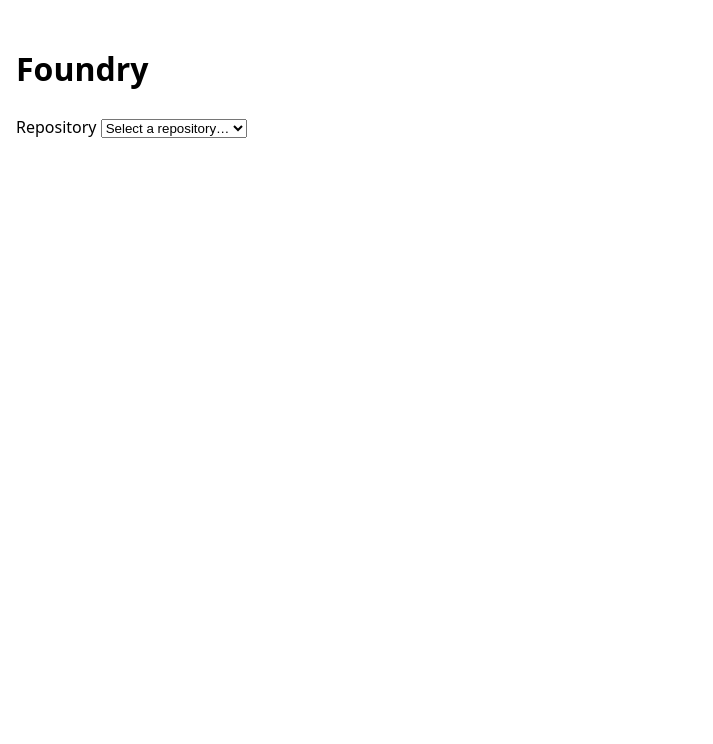
Scenario: Ask › never shows an answer that finishes after the repository changed
Select "acme/demo (3 files)" in the dropdown labelled "Repository" at (174, 128), box [101, 119, 247, 138]
(page scrolled)
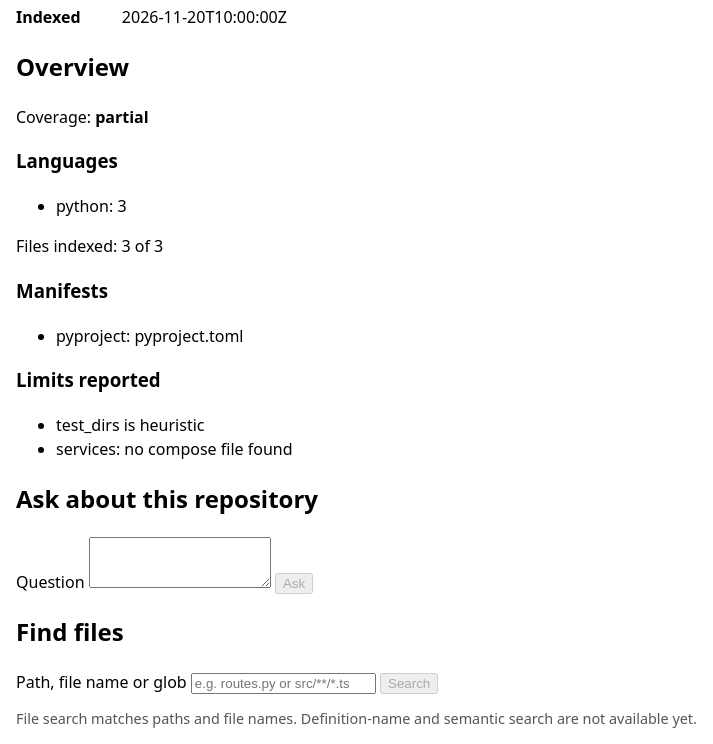
Type "What does it do?" into the text box labelled "Question" at (180, 562), box [89, 537, 271, 588]
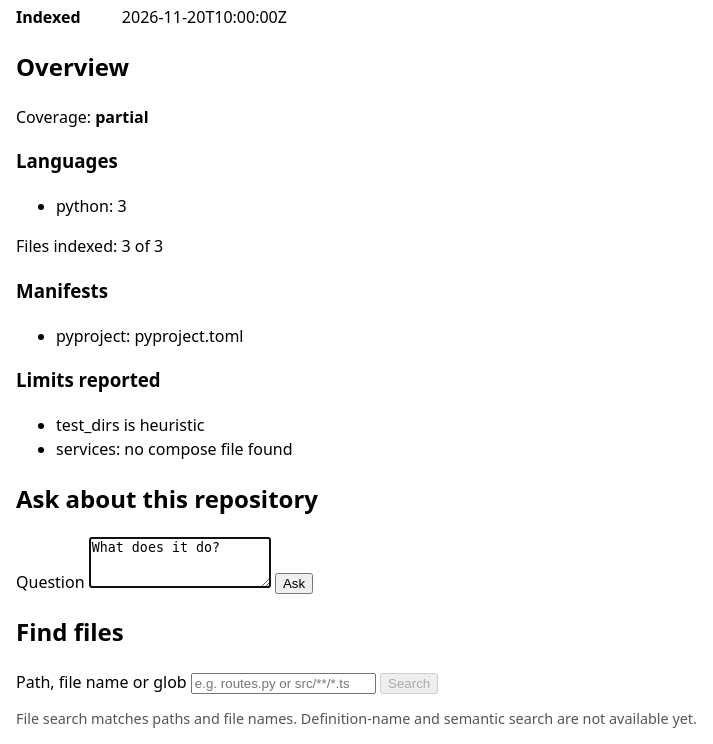
Click the button "Ask" at (294, 584), box [275, 573, 313, 594]
(page scrolled)
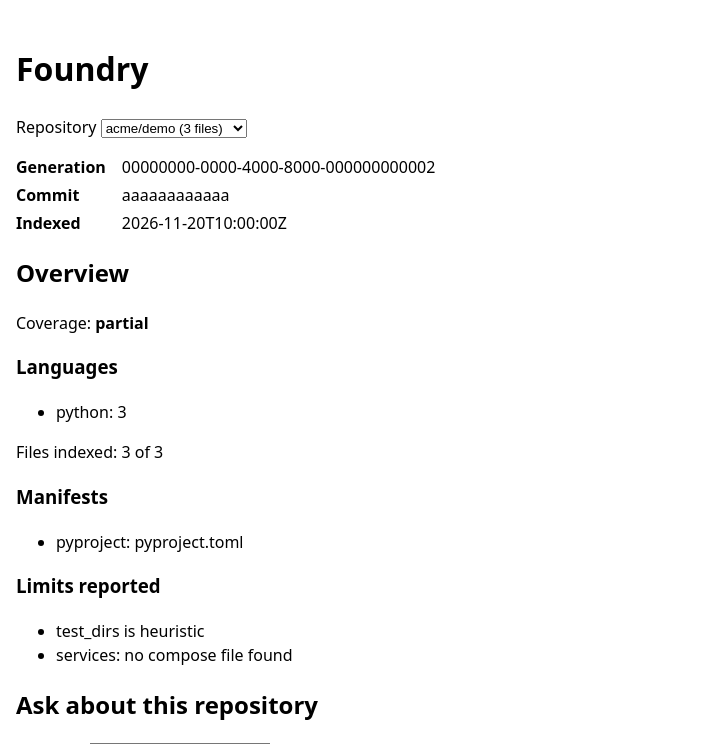
Select "acme/other (3 files)" in the dropdown labelled "Repository" at (174, 128), box [101, 119, 247, 138]
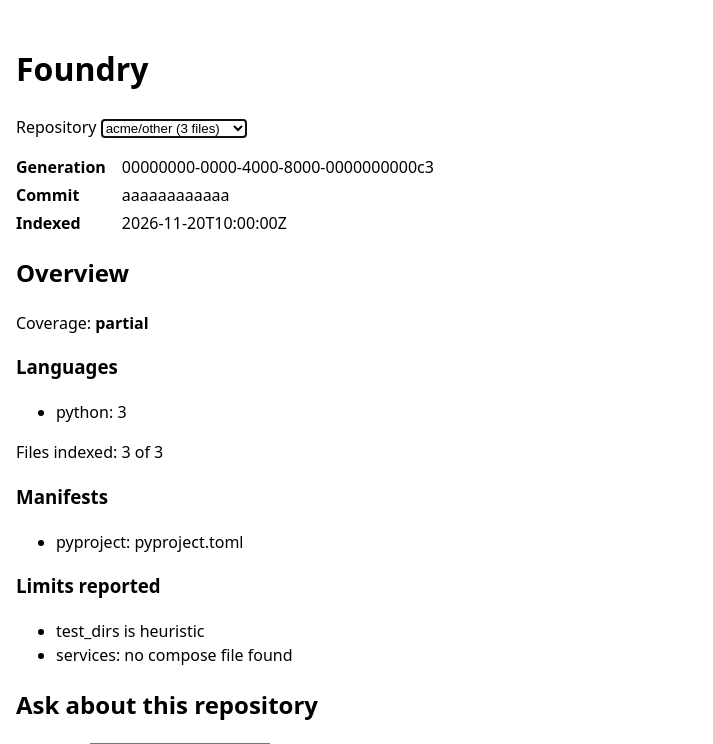
Expected: the text "00000000-0000-4000-8000-0000000000c3" is shown, [122, 156, 434, 178]
